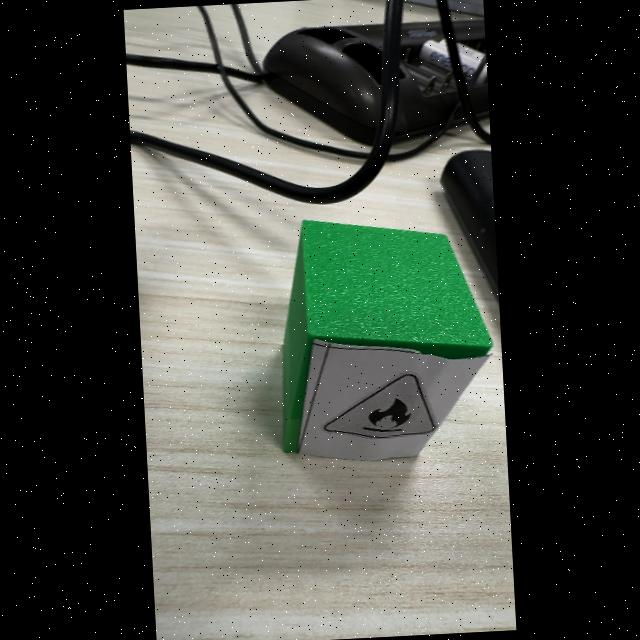Fire: (324, 374, 434, 437)
